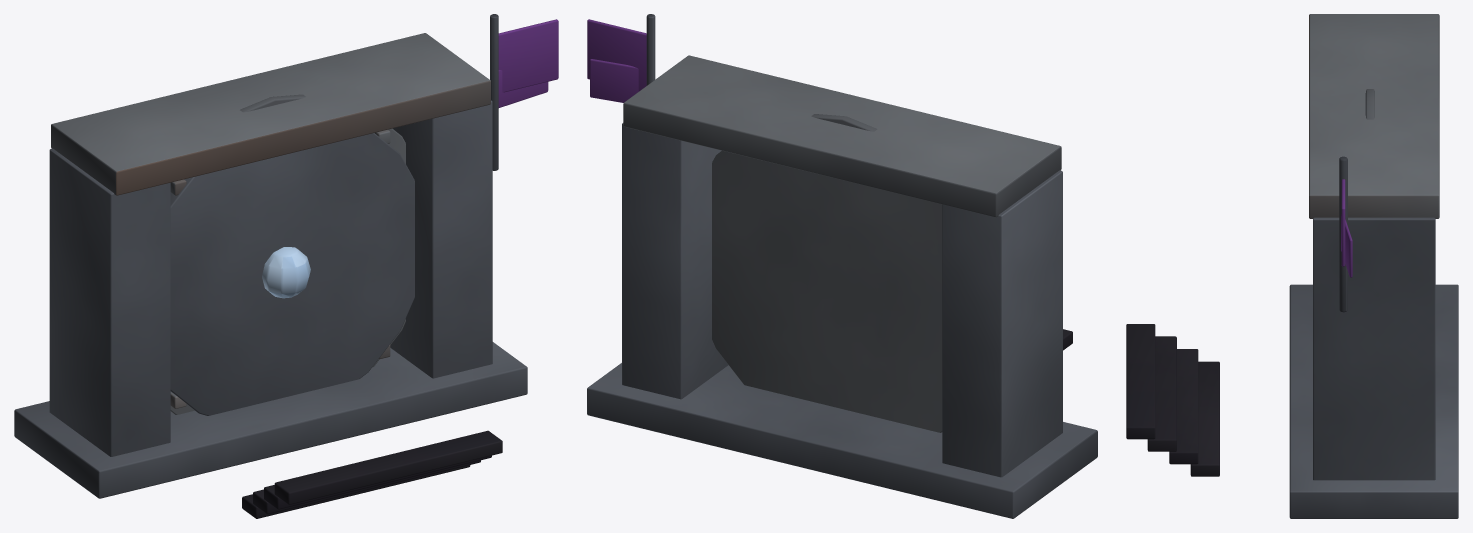
Rendered from building_portal_gate.fbx.
3 views of the same model, side by side, from view 1: azimuth 30°, elevation 25°; view 2: azimuth 150°, elevation 25°; view 3: azimuth 270°, elevation 25° (orthographic).
Parts seen in each view (by area): view 1: building_portal_gate; view 2: building_portal_gate; view 3: building_portal_gate.
Part boxes in pixels (x1=…): building_portal_gate: x1=14, y1=14, x2=558, y2=518; building_portal_gate: x1=587, y1=14, x2=1097, y2=518; building_portal_gate: x1=1126, y1=14, x2=1458, y2=518.
Bounding box in the file's own units: 7.25 × 5.3 × 4.33.
